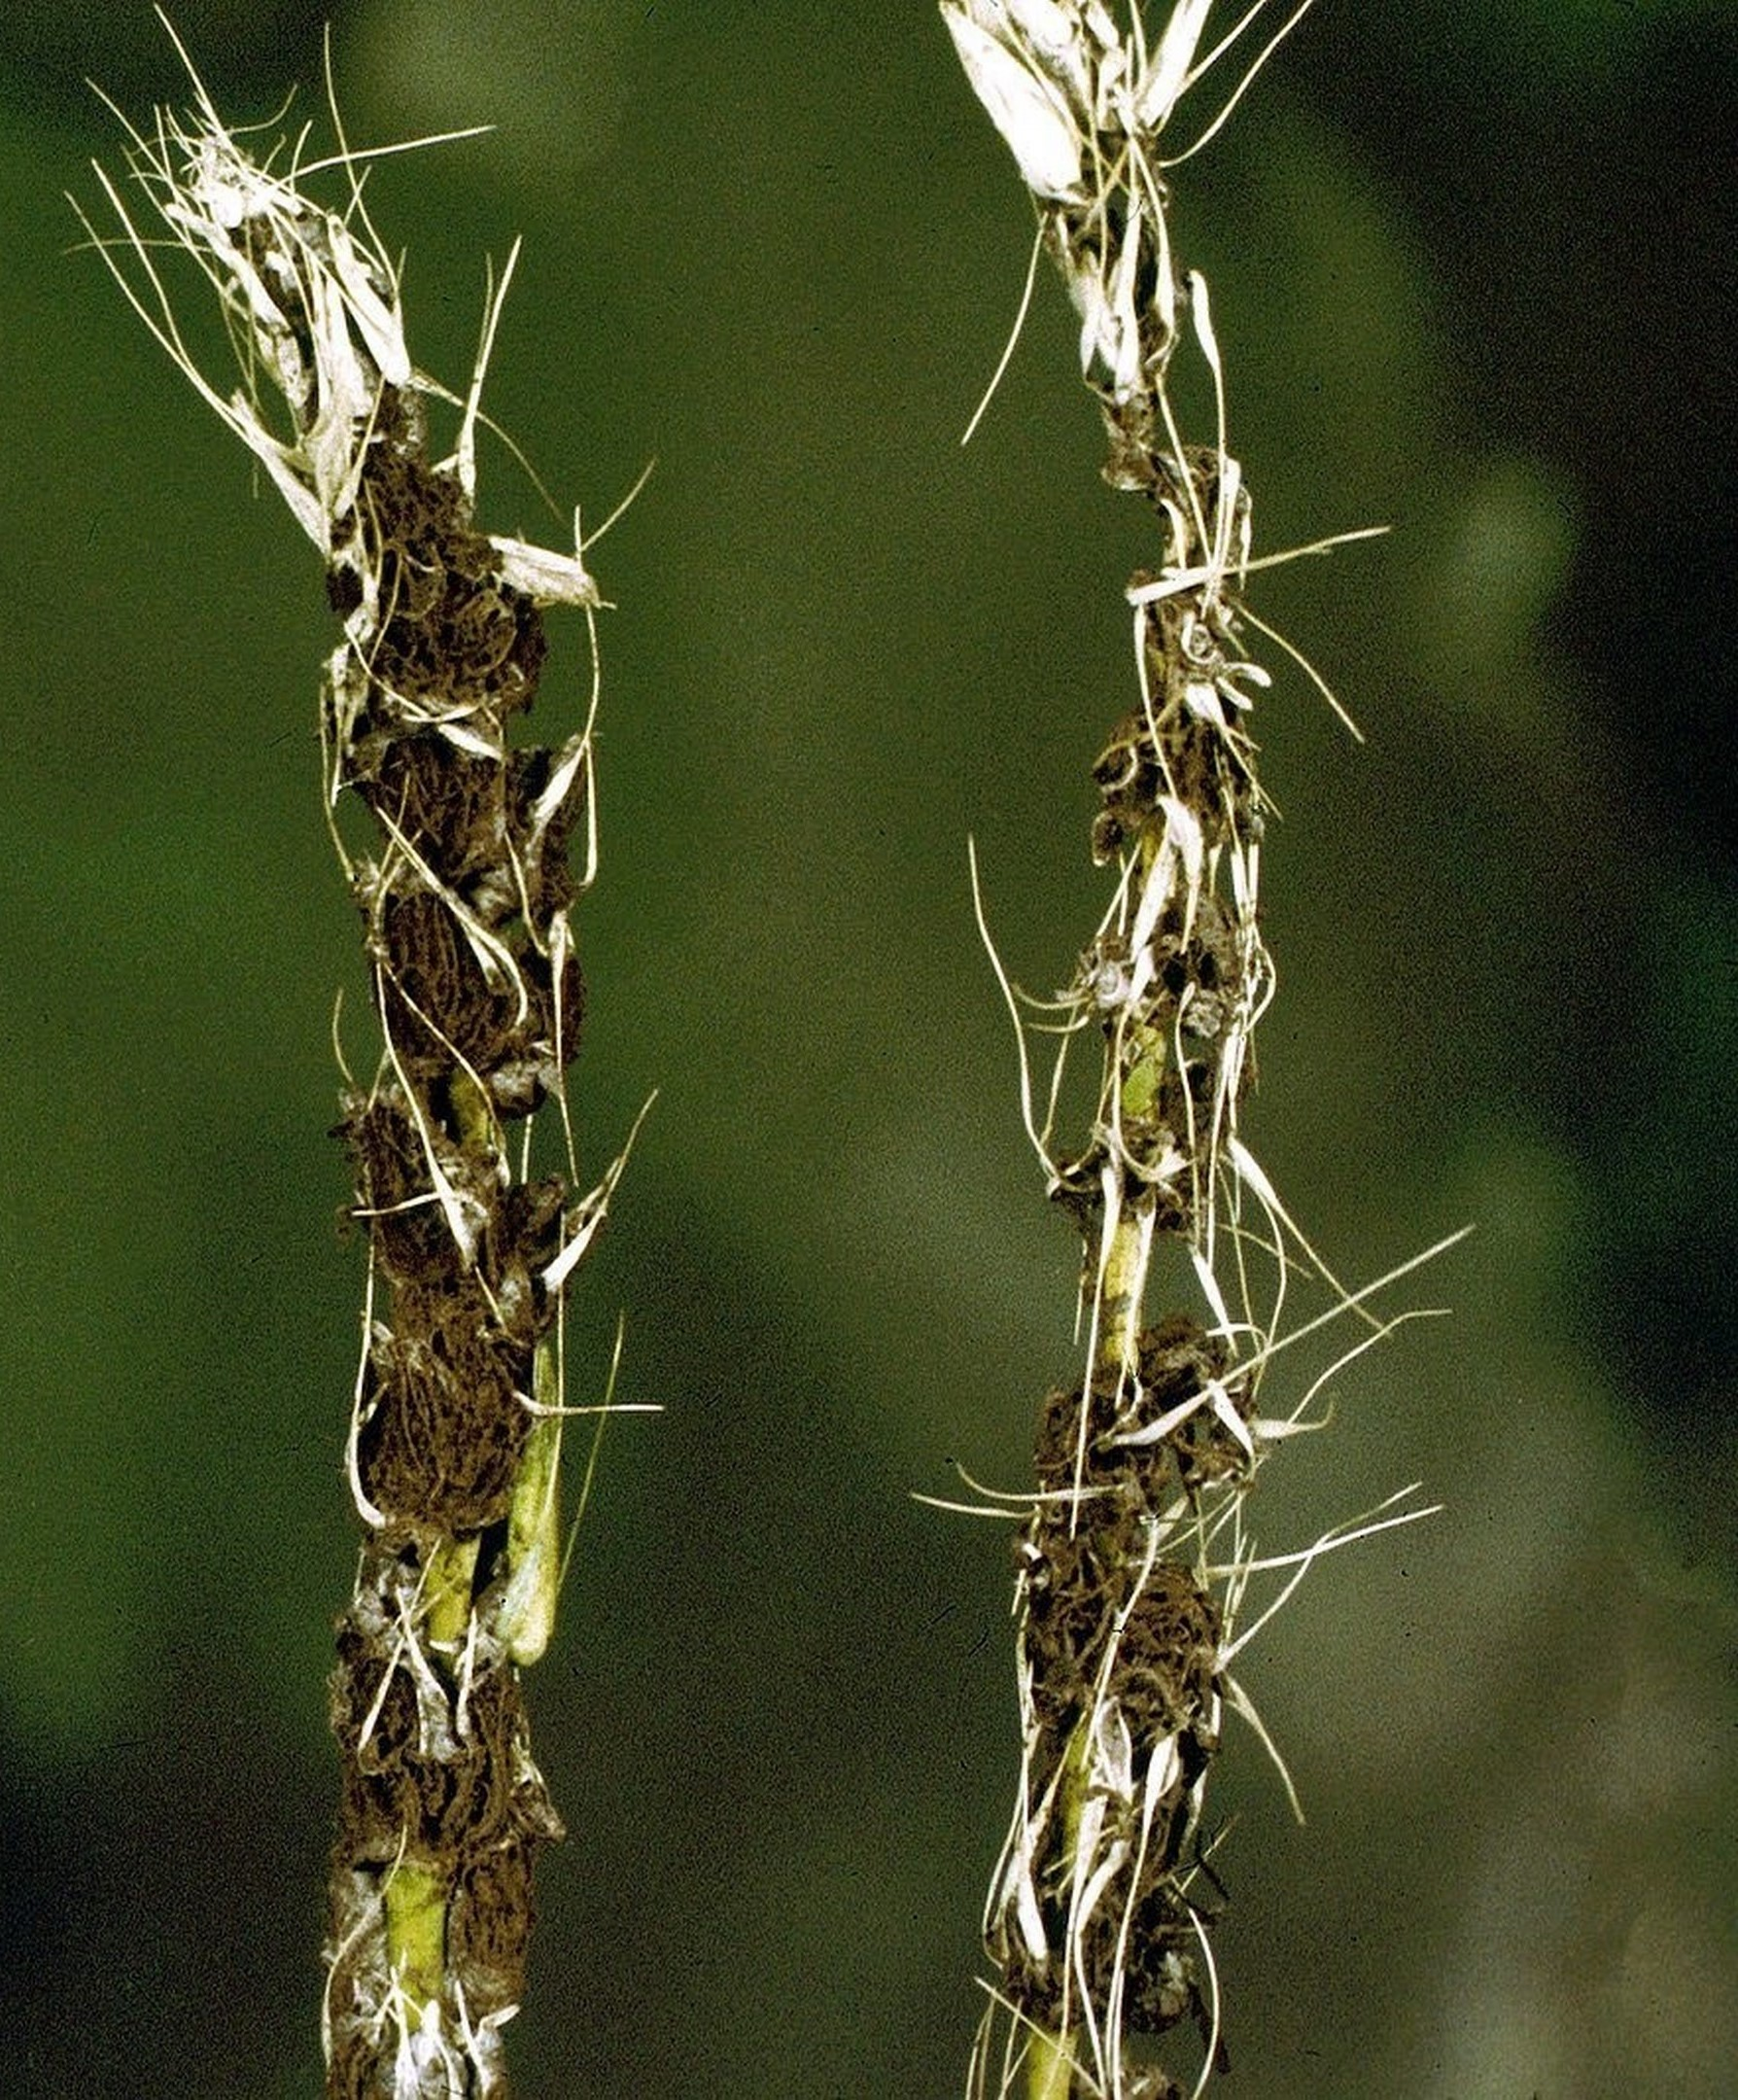Wheat Loose Smut: (166, 192, 669, 2051)
